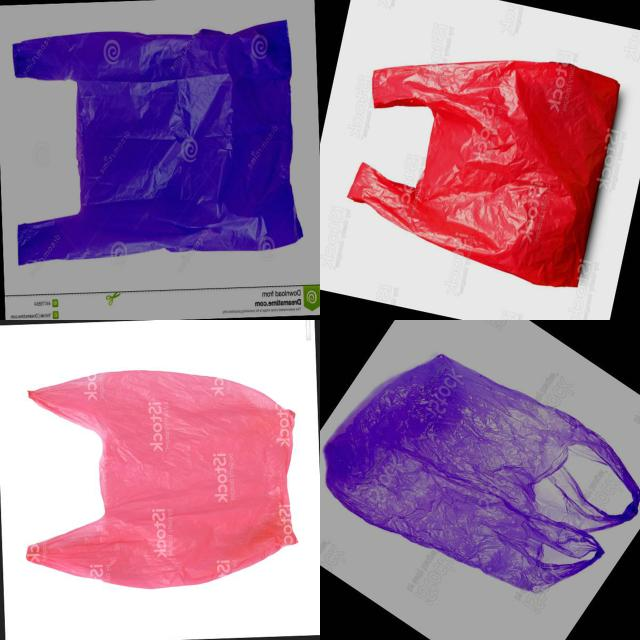Single-layer Plastic: (325, 355, 640, 592), (12, 21, 302, 263), (348, 61, 619, 286), (26, 370, 298, 589)
